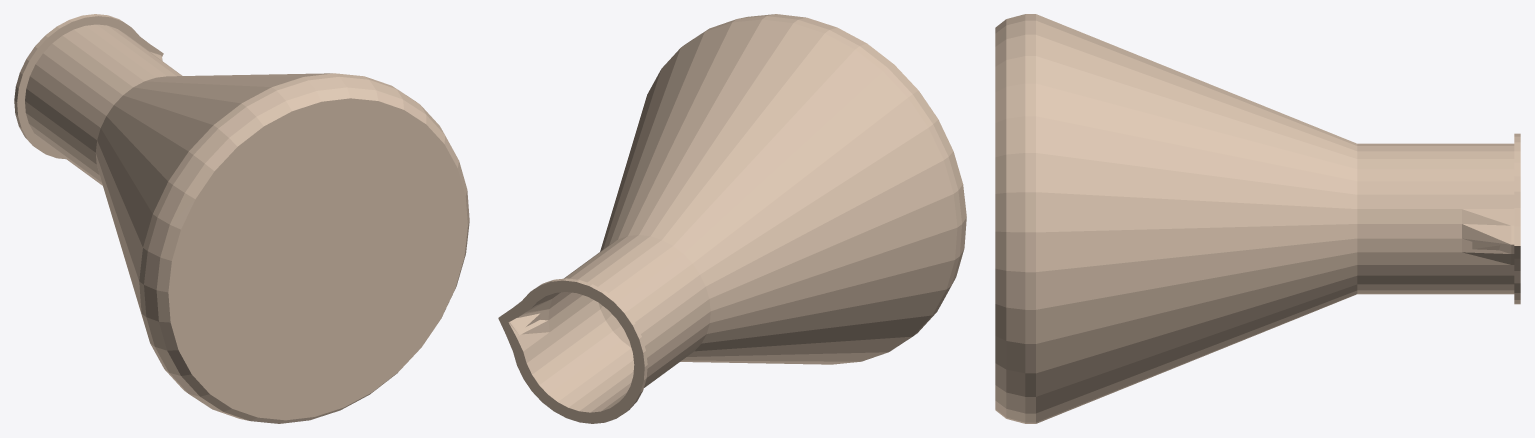
File: erlenmeyer.gltf
3 views of the same model, side by side, from view 1: azimuth 30°, elevation 25°; view 2: azimuth 150°, elevation 25°; view 3: azimuth 270°, elevation 25° (orthographic). The views are drawn at different scales.
Parts seen in each view (by area): view 1: Mesh_Mesh_head_geo.001_lambert2SG.001; view 2: Mesh_Mesh_head_geo.001_lambert2SG.001; view 3: Mesh_Mesh_head_geo.001_lambert2SG.001.
Boxes of the visible parts, bbox=[...] form: Mesh_Mesh_head_geo.001_lambert2SG.001: bbox=[14, 14, 469, 423]; Mesh_Mesh_head_geo.001_lambert2SG.001: bbox=[498, 14, 966, 423]; Mesh_Mesh_head_geo.001_lambert2SG.001: bbox=[995, 14, 1520, 423].
Size of the model in its own units: 59.4 by 59.4 by 75.99.
